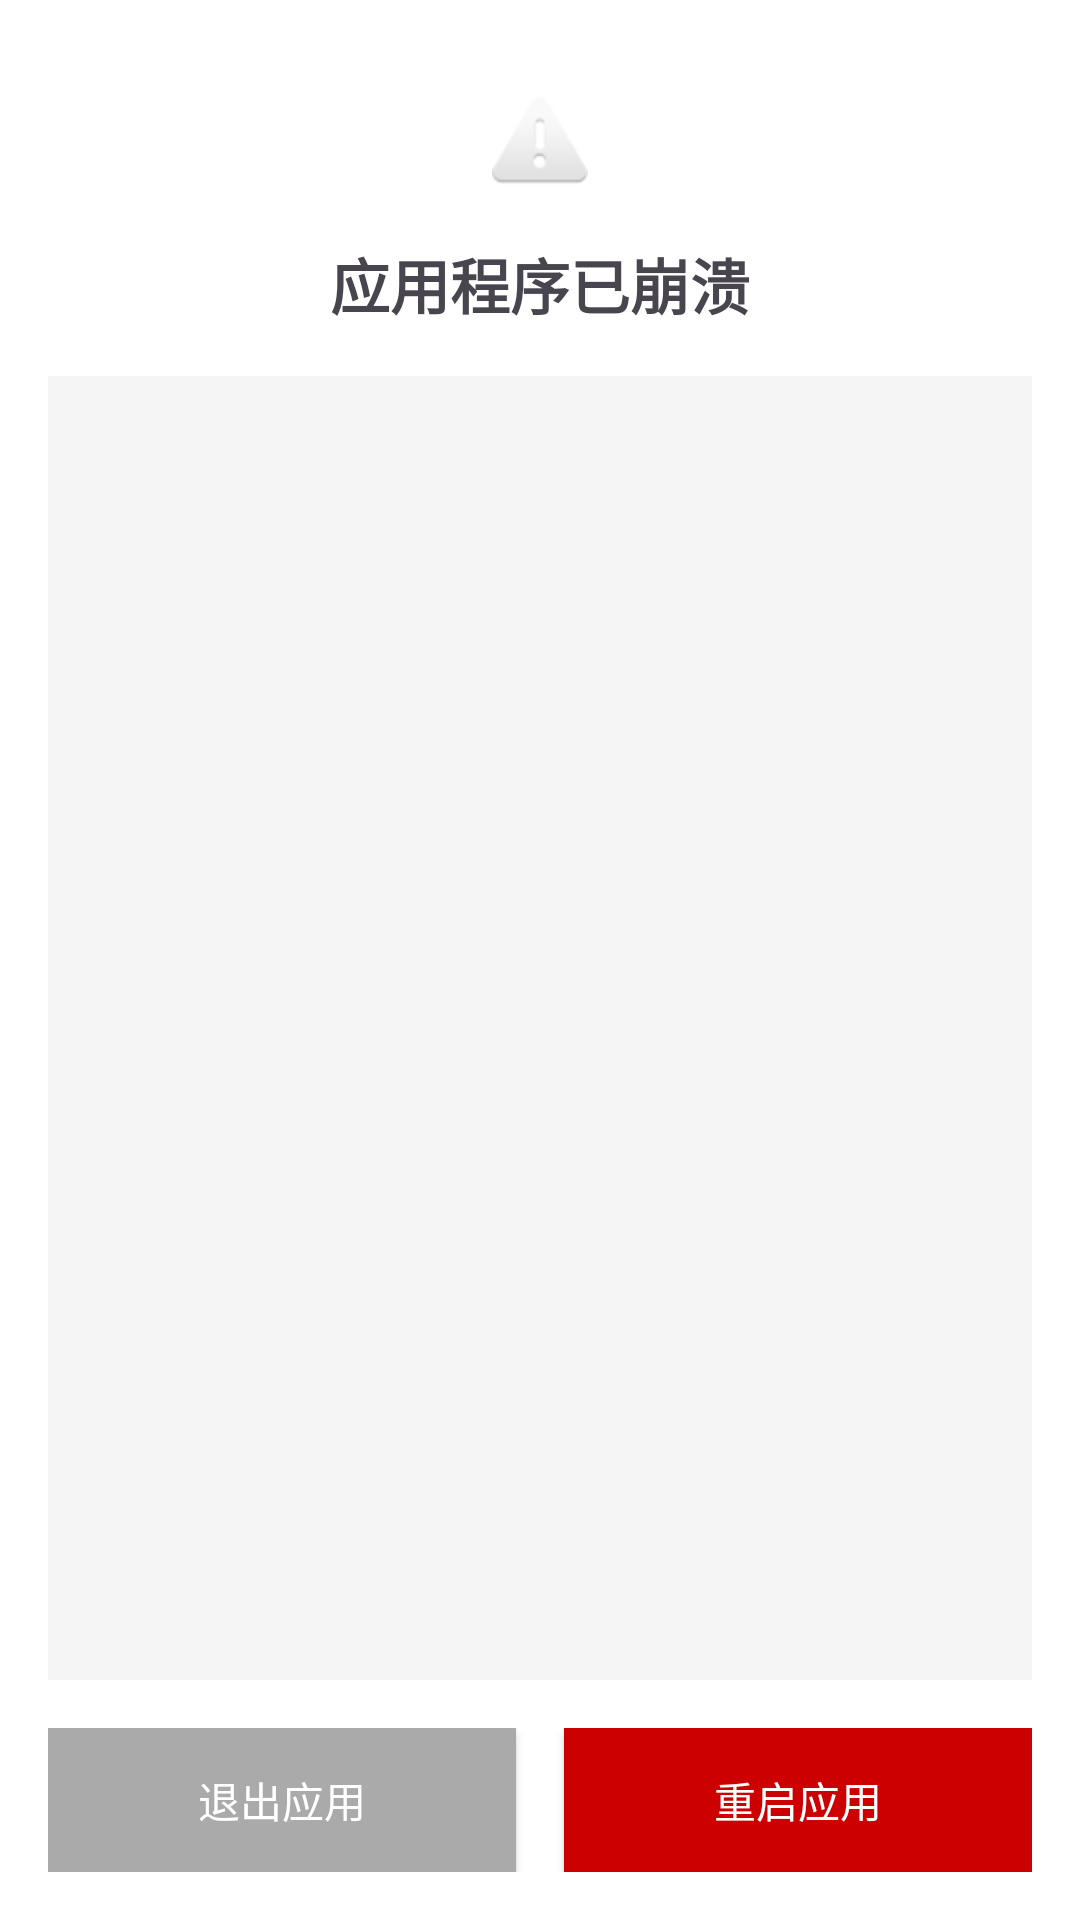

Locate icon controls on the screen. Image size 1080px×1920px, boxes as {"left": x1, "top": y1, "right": x2, "bottom": y2}.
alert: {"left": 492, "top": 118, "right": 588, "bottom": 183}
